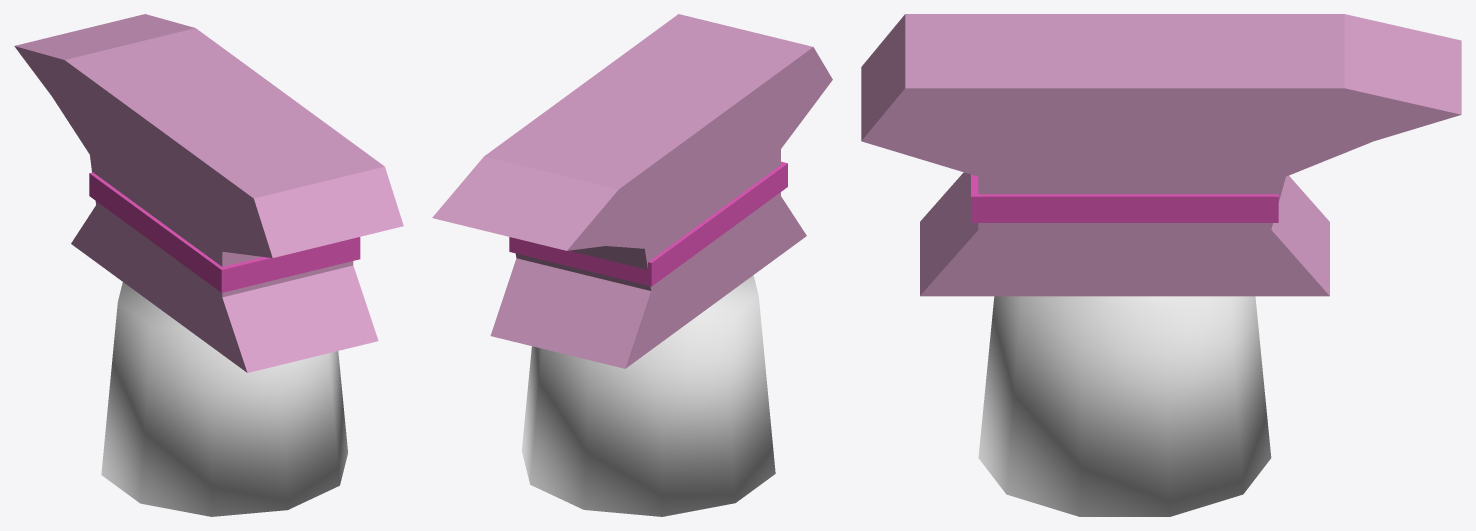
The model's file is orchidite_anvil_v0.glb.
The picture shows the model from 3 angles, left to right: view 1: azimuth 30°, elevation 25°; view 2: azimuth 150°, elevation 25°; view 3: azimuth 270°, elevation 25°; orthographic projection. The views are drawn at different scales.
Visible parts, largest first — view 1: orchidite_anvil_v0; view 2: orchidite_anvil_v0; view 3: orchidite_anvil_v0.
Part boxes in pixels (<box>): orchidite_anvil_v0: <box>14,14,403,516</box>; orchidite_anvil_v0: <box>432,14,832,516</box>; orchidite_anvil_v0: <box>861,14,1461,516</box>.
Size of the model in its own units: 0.5706 by 0.92 by 1.23.
